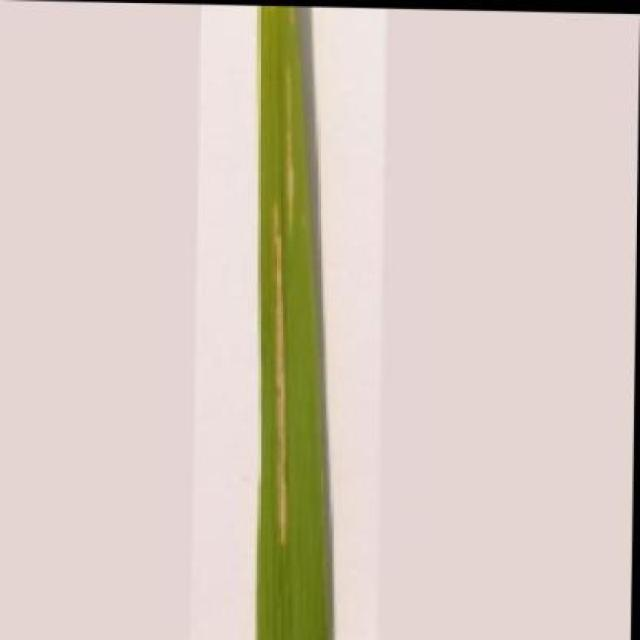Brown_Spot: (240, 3, 343, 640)
